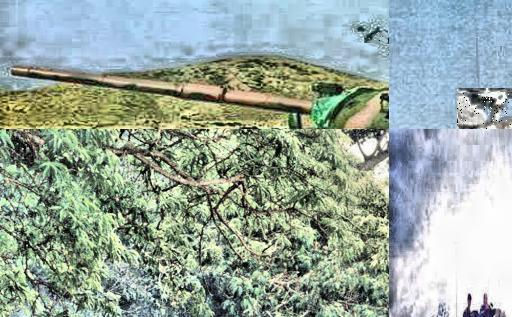tanks: (15, 68, 390, 130), (457, 94, 512, 130), (366, 32, 386, 43), (481, 310, 482, 317), (497, 311, 498, 317), (246, 129, 248, 130)
